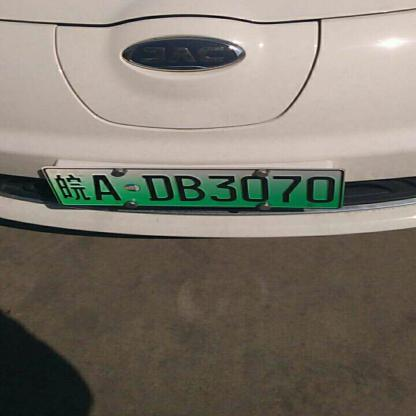lp: (44, 169, 62, 207)
